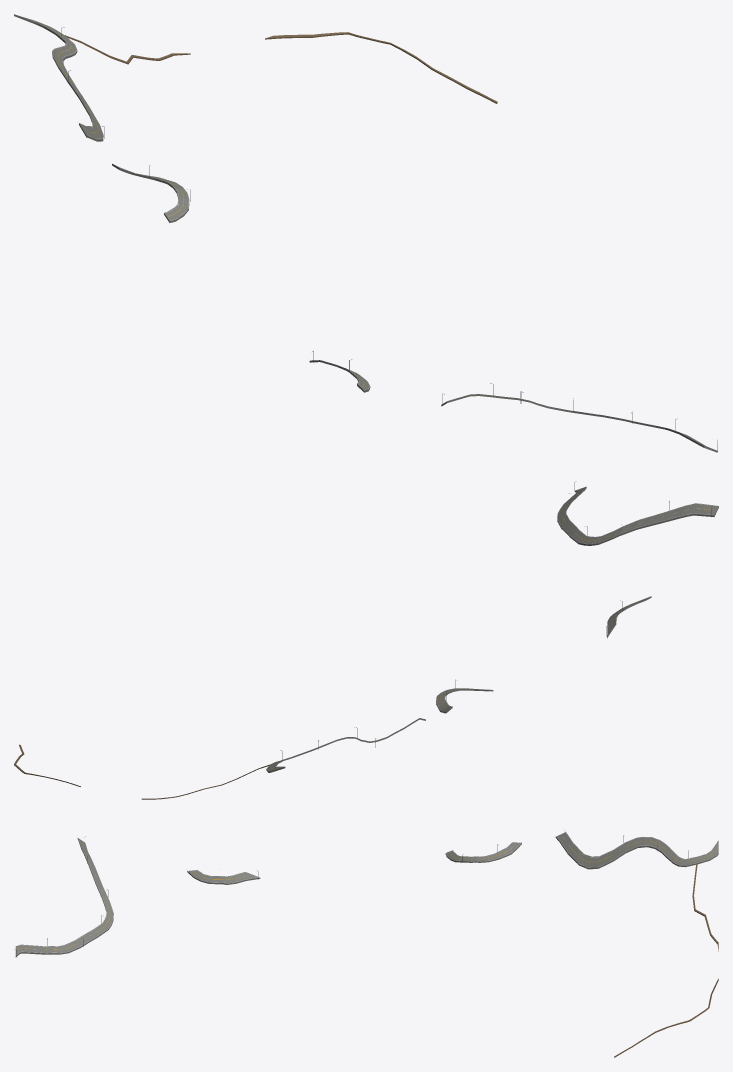
The model's file is 16-54743-29738.1b41feca.glb.
3 views of the same model, one above another, from view 1: azimuth 30°, elevation 25°; view 2: azimuth 150°, elevation 25°; view 3: azimuth 270°, elevation 25° (orthographic). The views are drawn at different scales.
Bounding box in the file's own units: 292 × 79.43 × 585.
